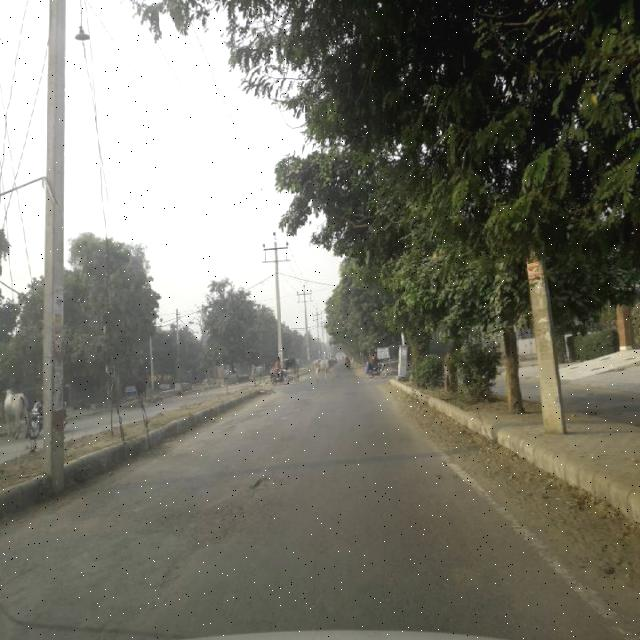D40: (135, 474, 273, 594)
